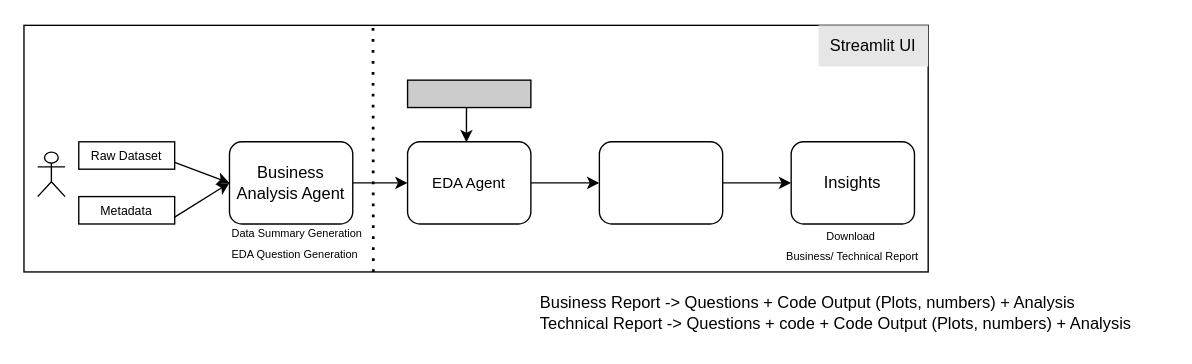
This 1192x364 diagram has some shape labels left out. The centre of each missing label's shape, as x and y in pixels:
"Refining Layer" goes at pixel 660 182.
"User" goes at pixel 50 174.
"User Query" goes at pixel 468 93.
